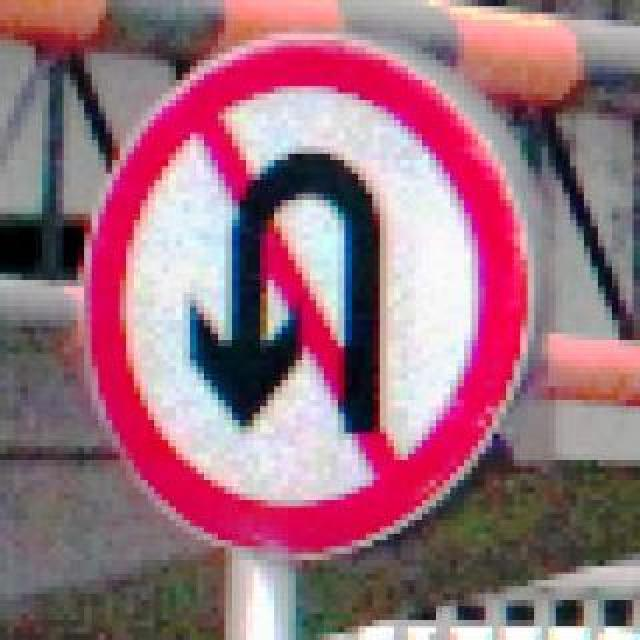no u turn: (78, 28, 528, 554)
